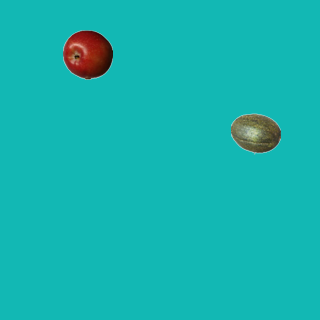Apple Braeburn: (62, 29, 112, 79)
Melon Piel de Sapo: (230, 108, 280, 158)
